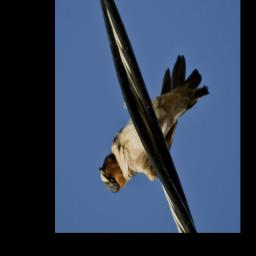Swallow: (97, 54, 210, 195)
